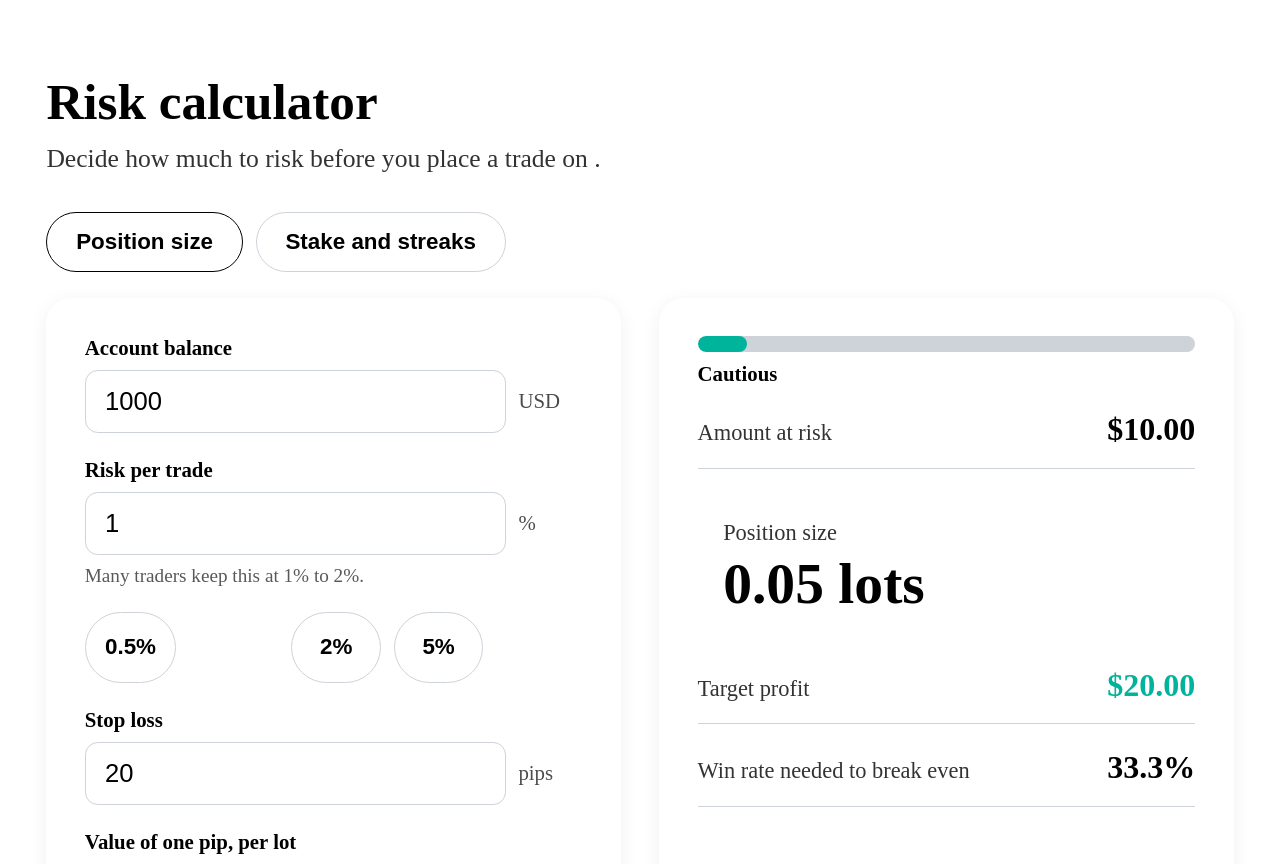
Test: <RiskCalculator /> › recalculates when an input changes
Replace the text in the number field with test id "dt_risk_stop_loss_pips" with "10": (295, 773) [85,742,506,805]
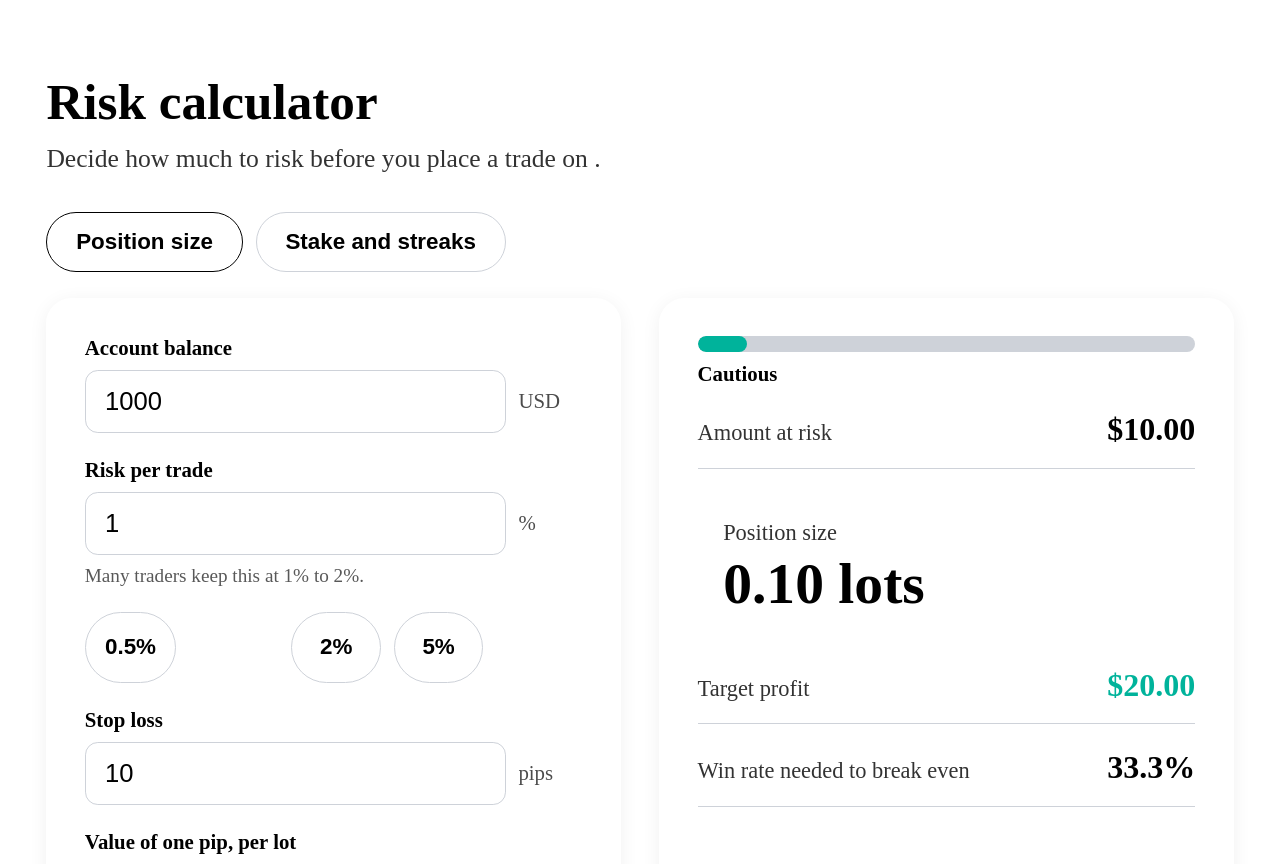
Now the text "0.10 lots" is shown, box [723,552,925,615]
